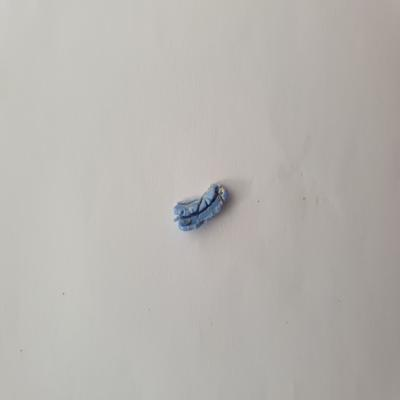plastic: (169, 179, 235, 233)
